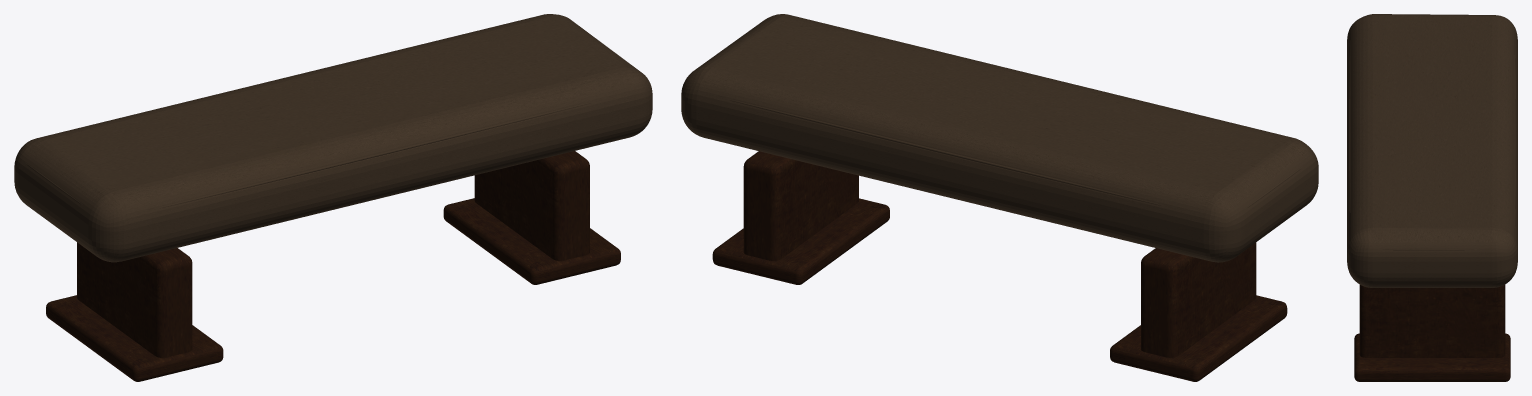
Rendered from luxury-end-bench.glb.
3 renders of one model, left to right at view 1: azimuth 30°, elevation 25°; view 2: azimuth 150°, elevation 25°; view 3: azimuth 270°, elevation 25°, orthographic. The views are drawn at different scales.
Parts seen in each view (by area): view 1: leather_0, walnut_1; view 2: leather_0, walnut_1; view 3: leather_0, walnut_1.
Part boxes in pixels (<box>): leather_0: <box>14,14,652,262</box>; walnut_1: <box>46,151,620,381</box>; leather_0: <box>681,14,1318,262</box>; walnut_1: <box>712,151,1287,381</box>; leather_0: <box>1347,14,1517,287</box>; walnut_1: <box>1354,284,1510,381</box>.
Size of the model in its own units: 1.55 by 0.4978 by 0.4801.
3 materials, 2 textured.
